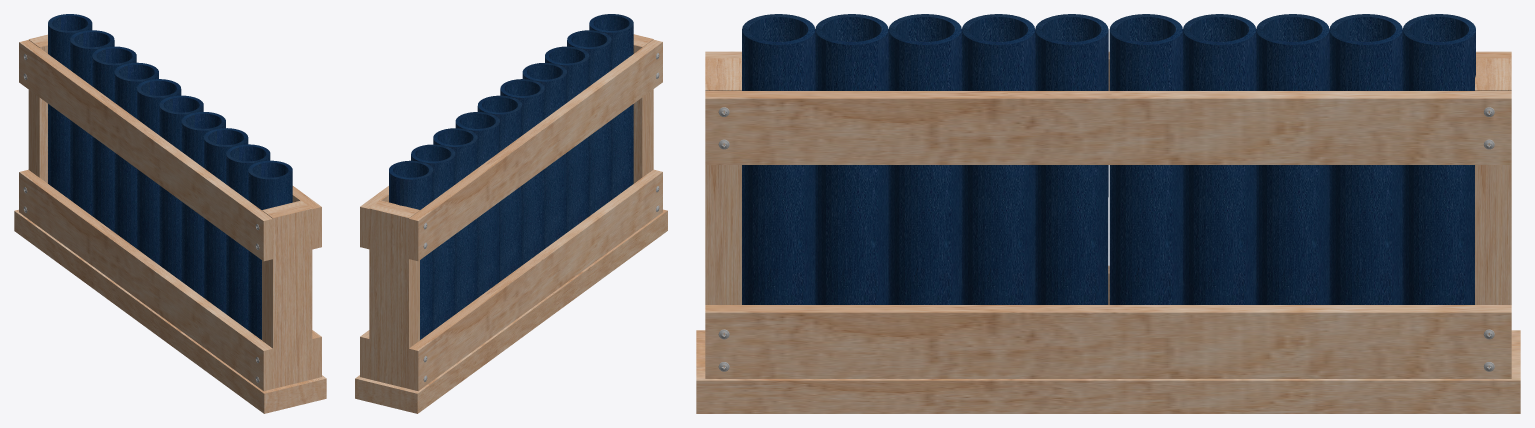
Rendered from BlueHDPE1.75inch10RACK.fbx.
3 views of the same model, side by side, from view 1: azimuth 30°, elevation 25°; view 2: azimuth 150°, elevation 25°; view 3: azimuth 270°, elevation 25° (orthographic). The views are drawn at different scales.
Visible parts, largest first — view 1: Cube.005, Cube.006, Cube.001, Cube, Cylinder.006, Cylinder.009, Cylinder.004, Cylinder.001, Cylinder.008, Cylinder.002, Cylinder.007, Cylinder.003 (+5 smaller); view 2: Cube.006, Cube.005, Cube.002, Cube, Cylinder.001, Cylinder.006, Cylinder.008, Cylinder.004, Cylinder.003, Cylinder.005, Cylinder.009, Cylinder.002 (+5 smaller); view 3: Cube.004, Cube.003, Cube, Cylinder.001, Cylinder.003, Cylinder.005, Cylinder.009, Cylinder.006, Cylinder.004, Cylinder.008, Cylinder.007, Cylinder.002 (+3 smaller).
Boxes of the visible parts, x1=… form: Cube.005: x1=19, y1=40, x2=273, y2=261; Cube.006: x1=19, y1=169, x2=273, y2=391; Cube.001: x1=262, y1=200, x2=312, y2=388; Cube: x1=14, y1=209, x2=326, y2=413; Cylinder.006: x1=137, y1=79, x2=181, y2=264; Cylinder.009: x1=70, y1=30, x2=114, y2=215; Cylinder.004: x1=226, y1=144, x2=270, y2=329; Cylinder.001: x1=159, y1=95, x2=203, y2=281; Cylinder.008: x1=92, y1=46, x2=136, y2=232; Cylinder.002: x1=181, y1=112, x2=225, y2=297; Cylinder.007: x1=114, y1=62, x2=158, y2=248; Cylinder.003: x1=204, y1=128, x2=248, y2=313; Cube.006: x1=408, y1=169, x2=662, y2=390; Cube.005: x1=408, y1=39, x2=662, y2=261; Cube.002: x1=369, y1=200, x2=419, y2=388; Cube: x1=355, y1=209, x2=667, y2=413; Cylinder.001: x1=500, y1=79, x2=544, y2=264; Cylinder.006: x1=477, y1=95, x2=522, y2=281; Cylinder.008: x1=433, y1=128, x2=477, y2=313; Cylinder.004: x1=567, y1=30, x2=611, y2=215; Cylinder.003: x1=545, y1=46, x2=589, y2=232; Cylinder.005: x1=589, y1=14, x2=633, y2=199; Cylinder.009: x1=411, y1=144, x2=455, y2=330; Cylinder.002: x1=522, y1=63, x2=566, y2=248; Cube.004: x1=705, y1=91, x2=1511, y2=164; Cube.003: x1=705, y1=305, x2=1511, y2=378; Cube: x1=696, y1=330, x2=1520, y2=413; Cylinder.001: x1=1035, y1=14, x2=1108, y2=304; Cylinder.003: x1=888, y1=14, x2=961, y2=304; Cylinder.005: x1=742, y1=14, x2=815, y2=304; Cylinder.009: x1=1329, y1=14, x2=1402, y2=304; Cylinder.006: x1=1109, y1=14, x2=1182, y2=304; Cylinder.004: x1=815, y1=14, x2=888, y2=304; Cylinder.008: x1=1256, y1=14, x2=1329, y2=304; Cylinder.007: x1=1183, y1=14, x2=1256, y2=304; Cylinder.002: x1=962, y1=14, x2=1035, y2=304.
Size of the model in its own units: 0.13 by 0.4328 by 0.9.
27 materials, 11 textured.
